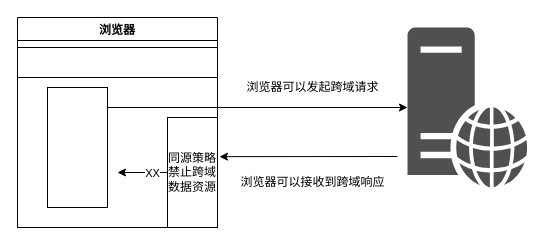
This 545x245 diagram has some shape labels left out. The shapes that lost their labels are listed below. From the top down, each one's centre as x and y in pixels, then its label:
At (117,62): "http://test.xyz/index.html".
At (77,147): "Ajax".
